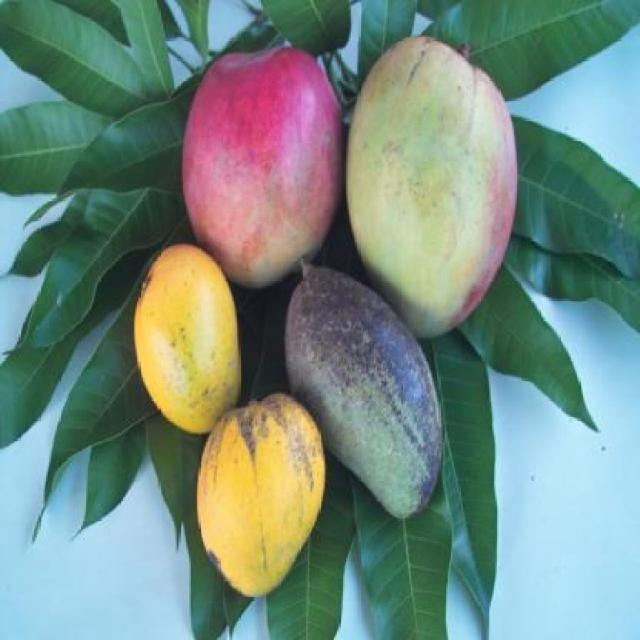Mango: (346, 34, 517, 338), (290, 268, 444, 520), (195, 398, 322, 594), (133, 248, 241, 434)
